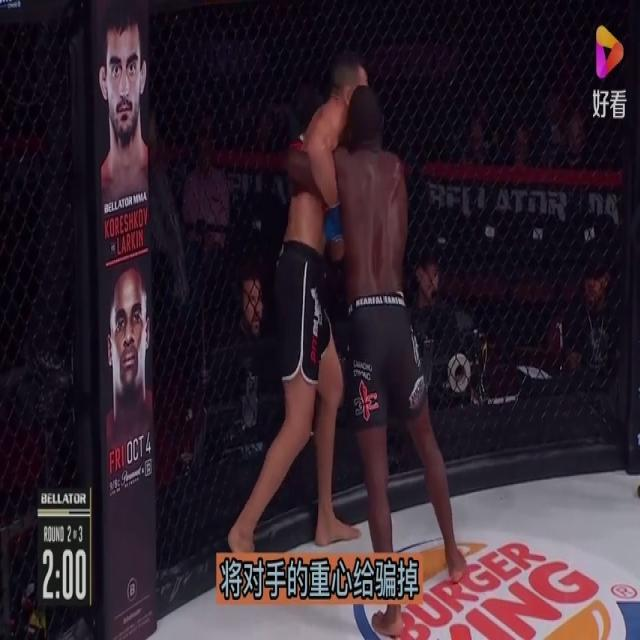fight: (228, 53, 472, 639)
